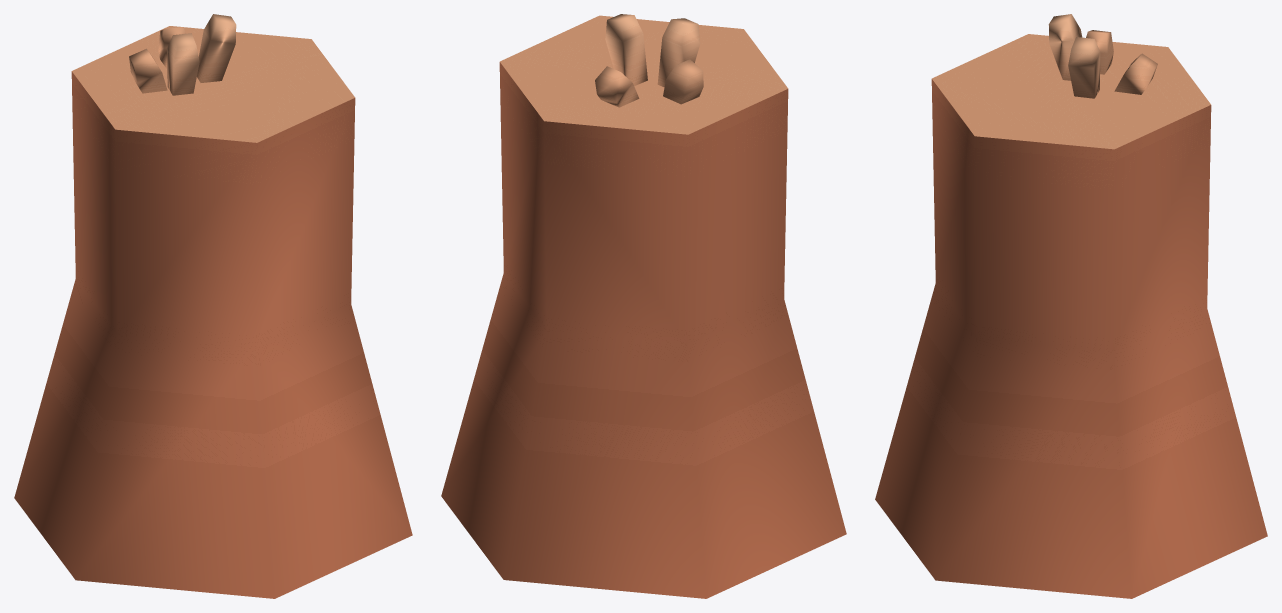
File: rocks-sand-c.020.glb
3 views of the same model, side by side, from view 1: azimuth 30°, elevation 25°; view 2: azimuth 150°, elevation 25°; view 3: azimuth 270°, elevation 25° (orthographic). The views are drawn at different scales.
Visible parts, largest first — view 1: rocks-sand-c.020; view 2: rocks-sand-c.020; view 3: rocks-sand-c.020.
Boxes of the visible parts, <box> form: rocks-sand-c.020: <box>14,14,412,598</box>; rocks-sand-c.020: <box>441,14,846,598</box>; rocks-sand-c.020: <box>875,14,1267,598</box>.
Bounding box in the file's own units: 0.5792 × 0.8066 × 0.5929.
1 material, 1 textured.
